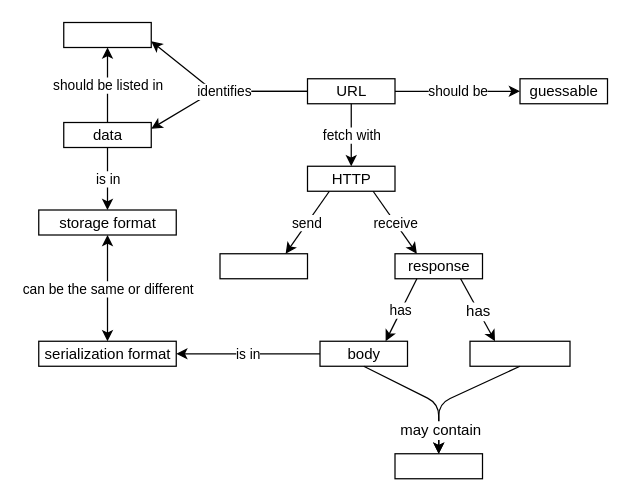
Some shapes in this 629 by 500 pixel diagram are drawn without their labels. The centre of each missing label's shape, as x and y in pixels:
"error" belongs at pixel 438 465.
"index" belongs at pixel 106 34.
"request" belongs at pixel 263 265.
"status code" belongs at pixel 519 353.
